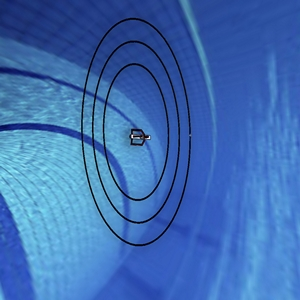circle: (51, 9, 244, 256)
submarine: (122, 120, 157, 156)
